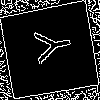Y: (25, 25, 74, 67)
